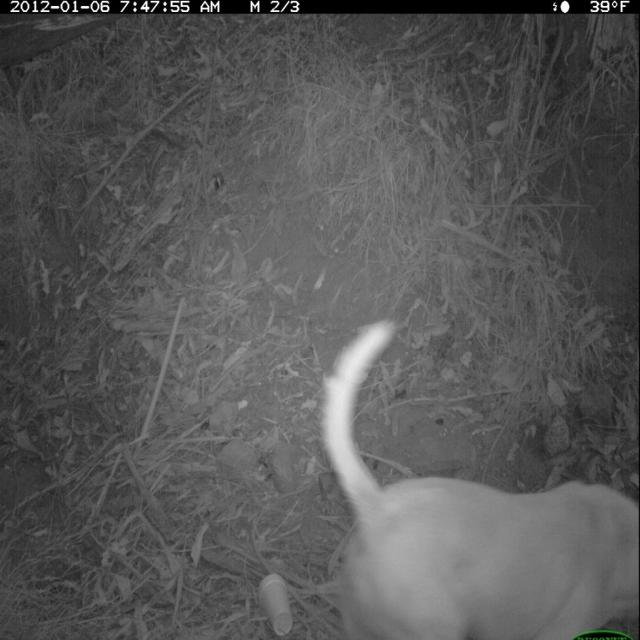dog: (303, 300, 640, 640)
